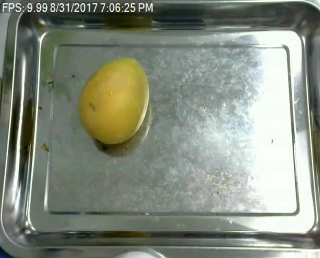Mango: (79, 56, 150, 142)
